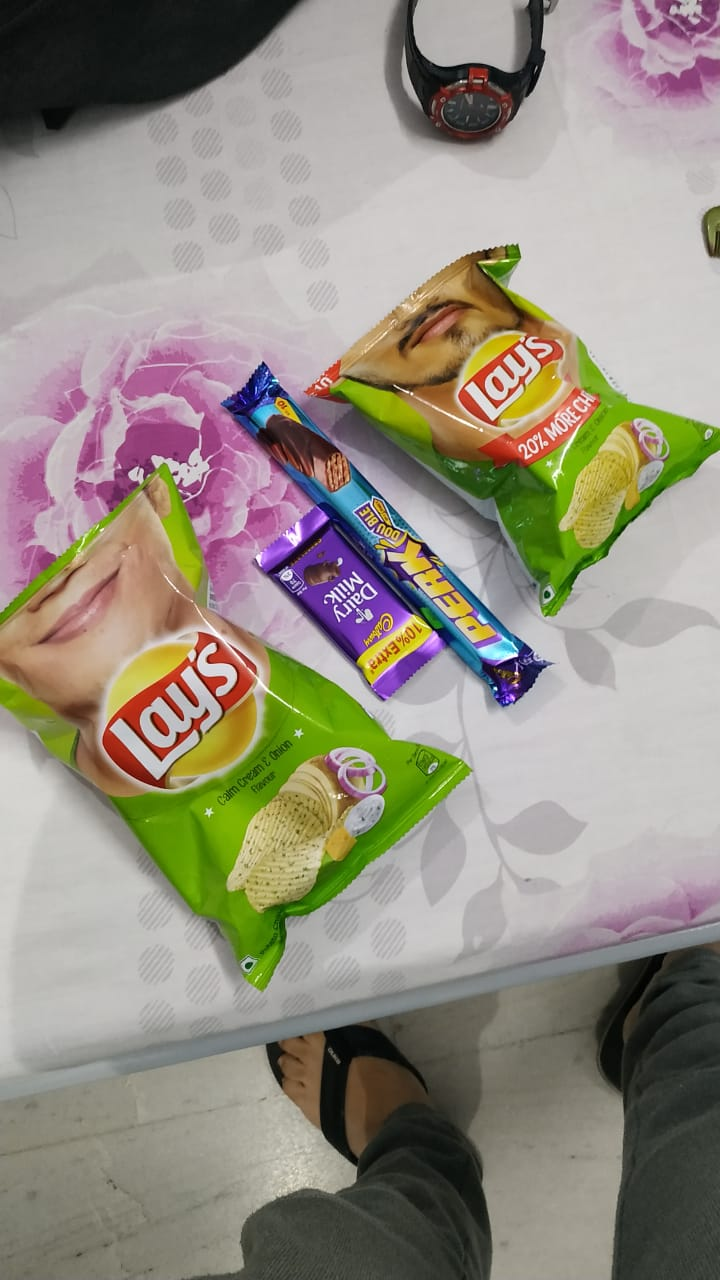dairy milk: (235, 502, 462, 696)
lays chips: (1, 474, 480, 988), (311, 229, 720, 563)
